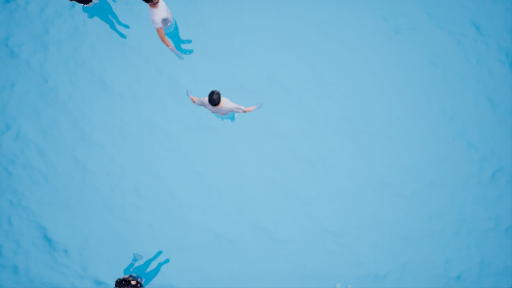person: (184, 86, 266, 133), (141, 1, 198, 66)
